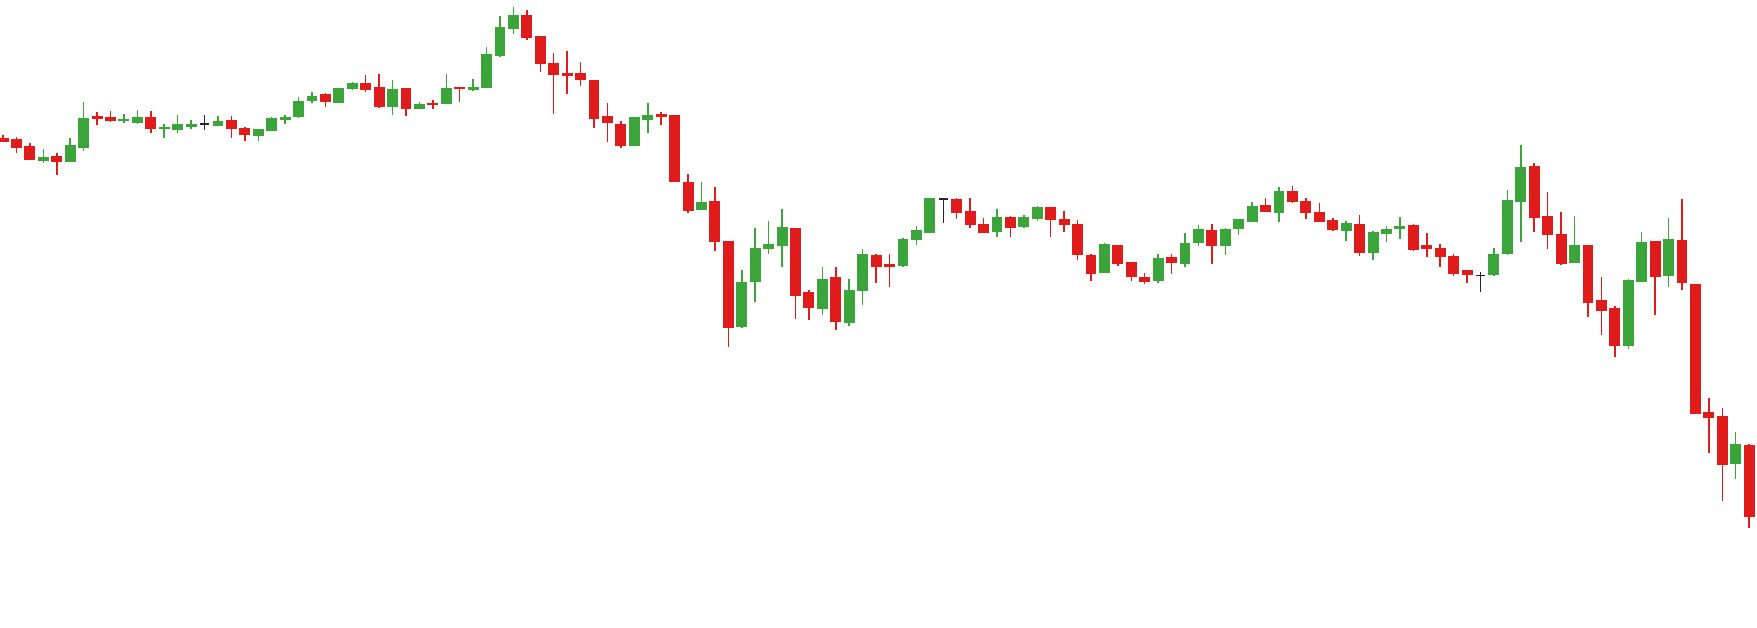sell: (1272, 144, 1543, 247), (1555, 196, 1690, 307)
